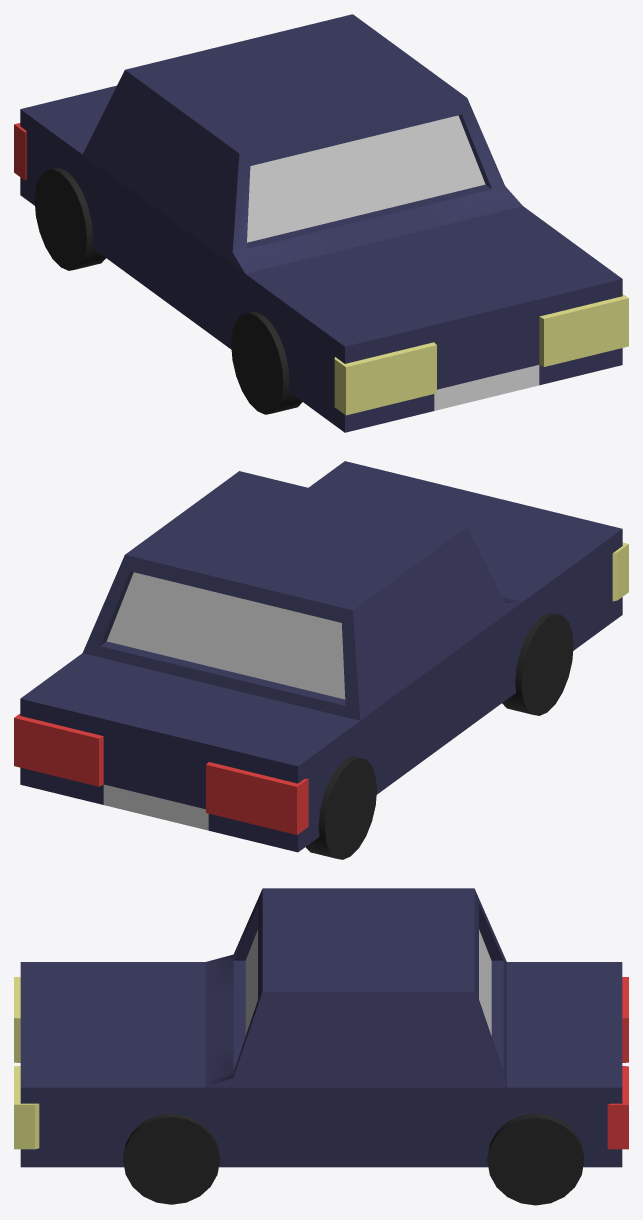
The model's file is CarModel.fbx.
3 renders of one model, top to bottom at view 1: azimuth 30°, elevation 25°; view 2: azimuth 150°, elevation 25°; view 3: azimuth 270°, elevation 25°, orthographic. The views are drawn at different scales.
Parts seen in each view (by area): view 1: pasted__pasted__pCylinder1; view 2: pasted__pasted__pCylinder1; view 3: pasted__pasted__pCylinder1.
Boxes of the visible parts, left/top/right/bottom form: pasted__pasted__pCylinder1: left=14, top=14, right=628, bottom=432; pasted__pasted__pCylinder1: left=14, top=461, right=628, bottom=859; pasted__pasted__pCylinder1: left=14, top=888, right=628, bottom=1205.
Bounding box in the file's own units: 3.57 × 2.49 × 6.99.
